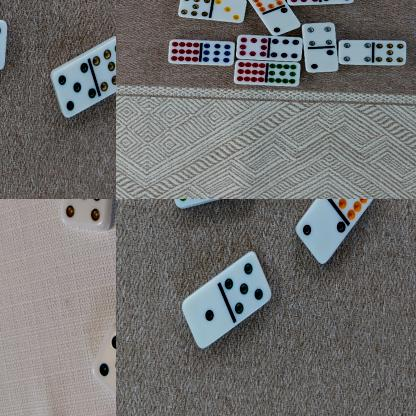pip-1: (182, 286, 230, 349)
pip-10: (330, 199, 379, 221), (246, 0, 283, 13)
pip-11: (268, 62, 302, 86)
pip-12: (233, 60, 268, 86), (169, 40, 201, 65)
pip-2: (298, 206, 348, 264), (269, 7, 302, 36), (305, 48, 340, 74)
pip-3: (212, 0, 247, 24)
pip-4: (339, 40, 374, 66), (303, 23, 337, 48)
pip-5: (224, 251, 274, 317), (54, 62, 97, 118), (93, 329, 116, 397)
pip-6: (269, 36, 305, 62)
pip-7: (63, 199, 106, 229), (93, 40, 116, 94), (374, 40, 408, 67), (178, 0, 212, 19)
pip-8: (236, 35, 270, 60), (286, 0, 320, 6)
pip-9: (201, 40, 235, 66)
